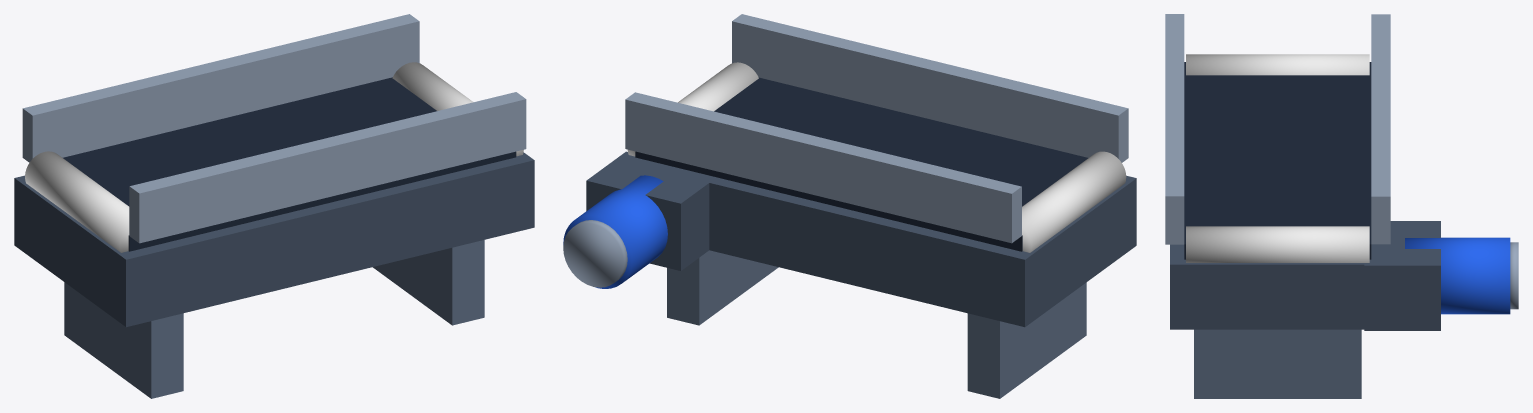
The model's file is conveyor.glb.
3 renders of one model, left to right at view 1: azimuth 30°, elevation 25°; view 2: azimuth 150°, elevation 25°; view 3: azimuth 270°, elevation 25°, orthographic. The views are drawn at different scales.
Parts seen in each view (by area): view 1: Conveyor_Frame, Guide_Left, Guide_Right, Conveyor_Belt, Support_Left, Support_Right, Roller_Left, Roller_Right; view 2: Conveyor_Frame, Guide_Right, Guide_Left, Conveyor_Belt, Support_Left, Motor_Mount, Roller_Left, Support_Right, Motor_Housing, Motor_EndCap, Roller_Right; view 3: Conveyor_Belt, Conveyor_Frame, Support_Right, Motor_Mount, Roller_Right, Motor_Housing, Guide_Left, Guide_Right, Roller_Left, Motor_EndCap.
Part boxes in pixels (x1=…): Conveyor_Frame: x1=14, y1=152, x2=534, y2=327; Guide_Left: x1=129, y1=92, x2=526, y2=243; Guide_Right: x1=22, y1=14, x2=419, y2=162; Conveyor_Belt: x1=63, y1=77, x2=516, y2=251; Support_Left: x1=64, y1=282, x2=183, y2=398; Support_Right: x1=373, y1=240, x2=484, y2=325; Roller_Left: x1=25, y1=151, x2=129, y2=252; Roller_Right: x1=392, y1=62, x2=523, y2=156; Conveyor_Frame: x1=617, y1=152, x2=1136, y2=327; Guide_Right: x1=625, y1=92, x2=1021, y2=243; Guide_Left: x1=732, y1=14, x2=1128, y2=162; Conveyor_Belt: x1=635, y1=77, x2=1088, y2=251; Support_Left: x1=967, y1=282, x2=1086, y2=398; Motor_Mount: x1=586, y1=151, x2=709, y2=270; Roller_Left: x1=1022, y1=151, x2=1126, y2=252; Support_Right: x1=667, y1=250, x2=778, y2=325; Motor_Housing: x1=563, y1=175, x2=667, y2=288; Motor_EndCap: x1=563, y1=220, x2=627, y2=287; Roller_Right: x1=627, y1=62, x2=758, y2=156; Conveyor_Belt: x1=1184, y1=62, x2=1371, y2=259; Conveyor_Frame: x1=1170, y1=244, x2=1385, y2=329; Support_Right: x1=1194, y1=329, x2=1361, y2=398; Motor_Mount: x1=1364, y1=221, x2=1440, y2=330; Roller_Right: x1=1186, y1=226, x2=1369, y2=262; Motor_Housing: x1=1405, y1=237, x2=1510, y2=314; Guide_Left: x1=1165, y1=14, x2=1184, y2=244; Guide_Right: x1=1371, y1=14, x2=1390, y2=244; Roller_Left: x1=1186, y1=54, x2=1369, y2=75; Motor_EndCap: x1=1510, y1=242, x2=1518, y2=309.
Bounding box in the file's own units: 1.91 × 0.991 × 1.48.
